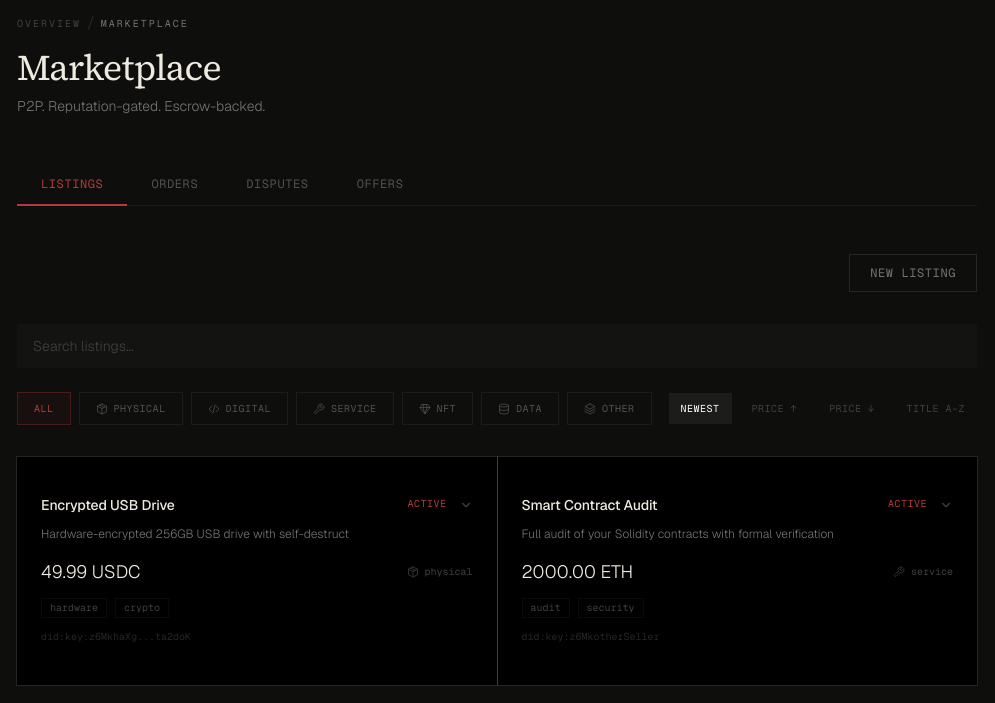
it: Marketplace page › Empty states › shows empty orders state
Click the button "Orders": (175, 185) [127,164,222,206]
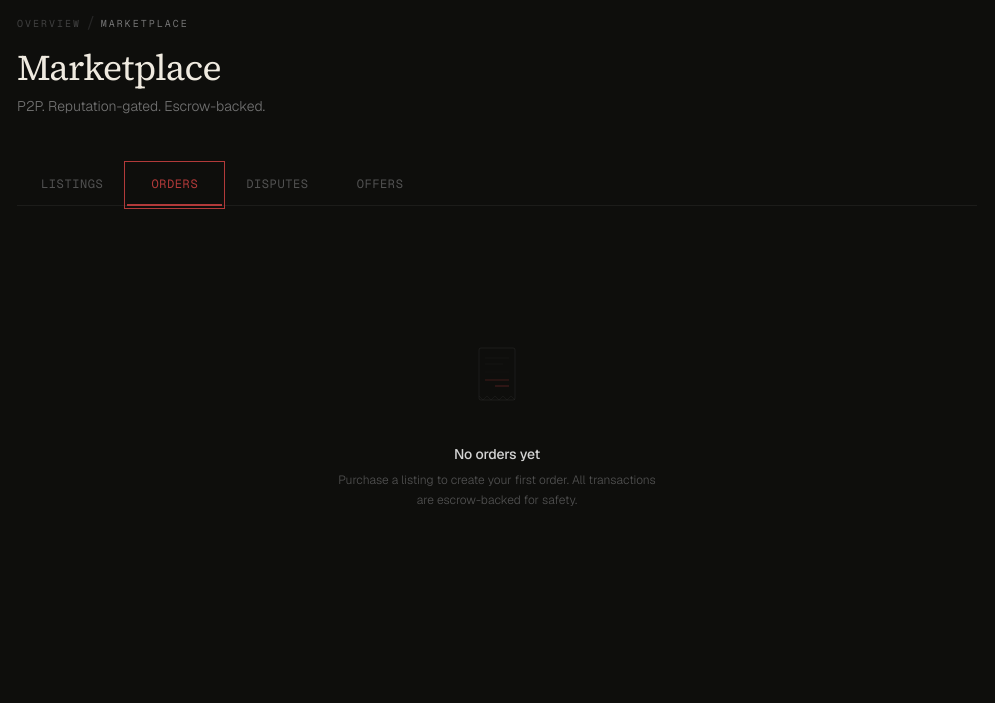
Expected: the heading "No orders yet" is shown, [454,446,540,463]
